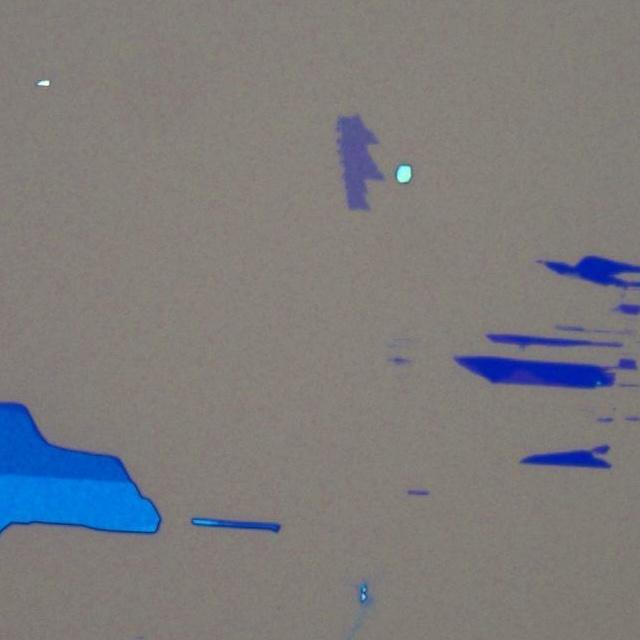monolayer-eWW4: (334, 113, 386, 215)
